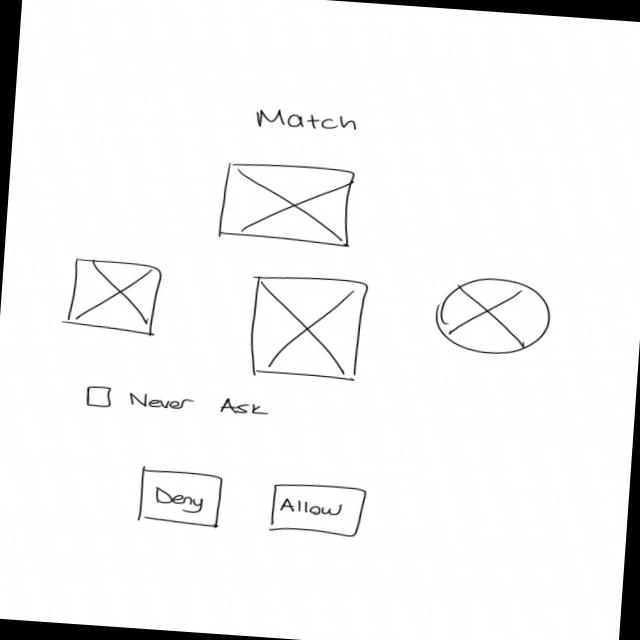button: (266, 478, 368, 538), (133, 466, 225, 530)
checkbox: (83, 382, 270, 420)
image: (246, 271, 370, 384), (216, 158, 359, 249), (431, 272, 554, 358), (62, 255, 162, 338)
label: (252, 104, 360, 138)
